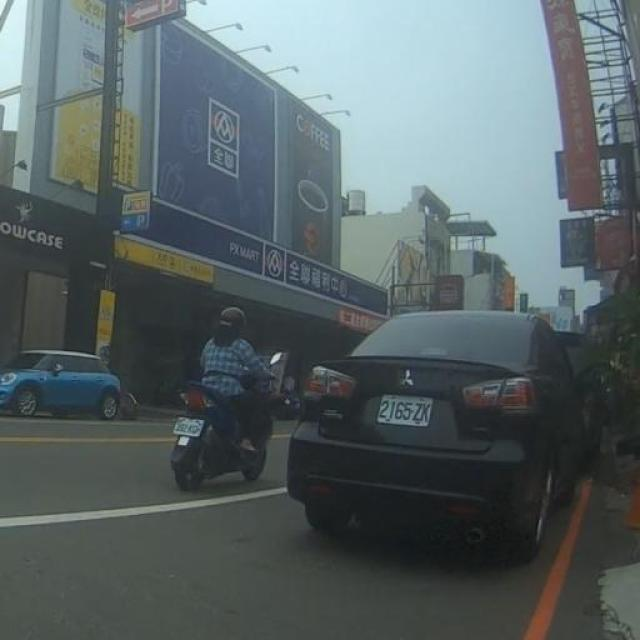Legalparking: (0, 350, 119, 419)
illegalparking: (289, 310, 585, 559)
